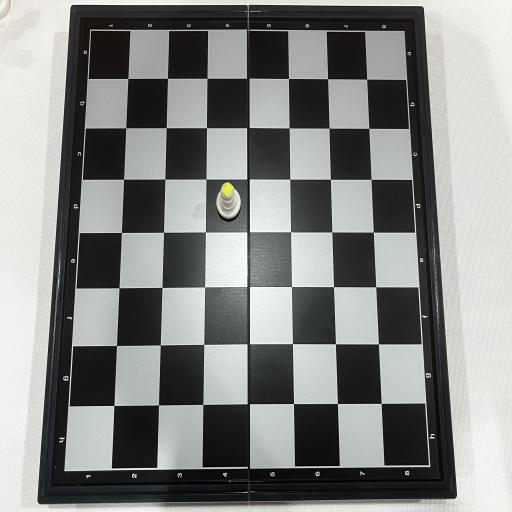White Pawn: (216, 182, 241, 219)
